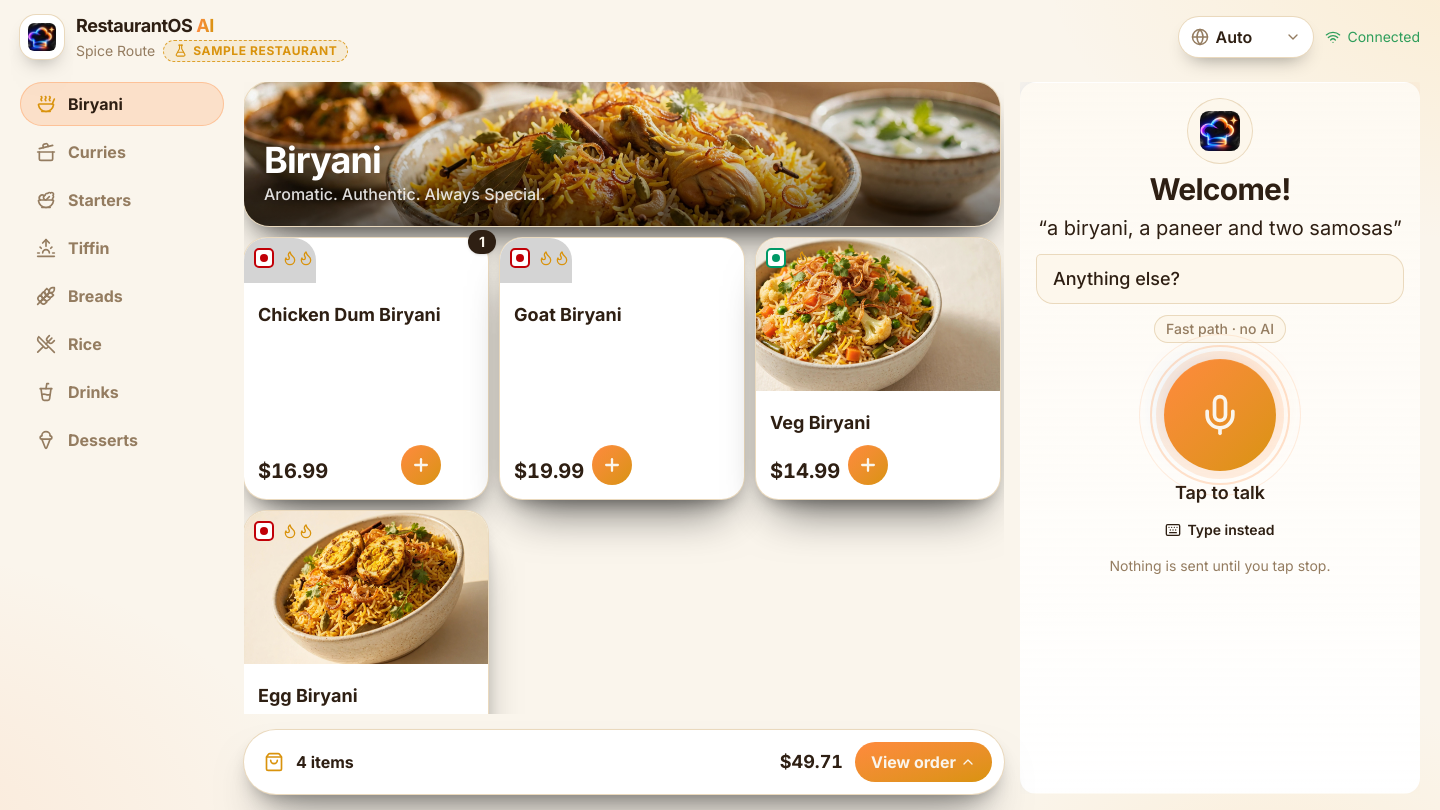
expanded_cart_shrinks_the_menu_viewport_instead_of_covering_it
The width and height of the screenshot is (1440, 810).
Click the button "4 items $49.71 View order": (332, 762) x1=244 y1=730 x2=1004 y2=794
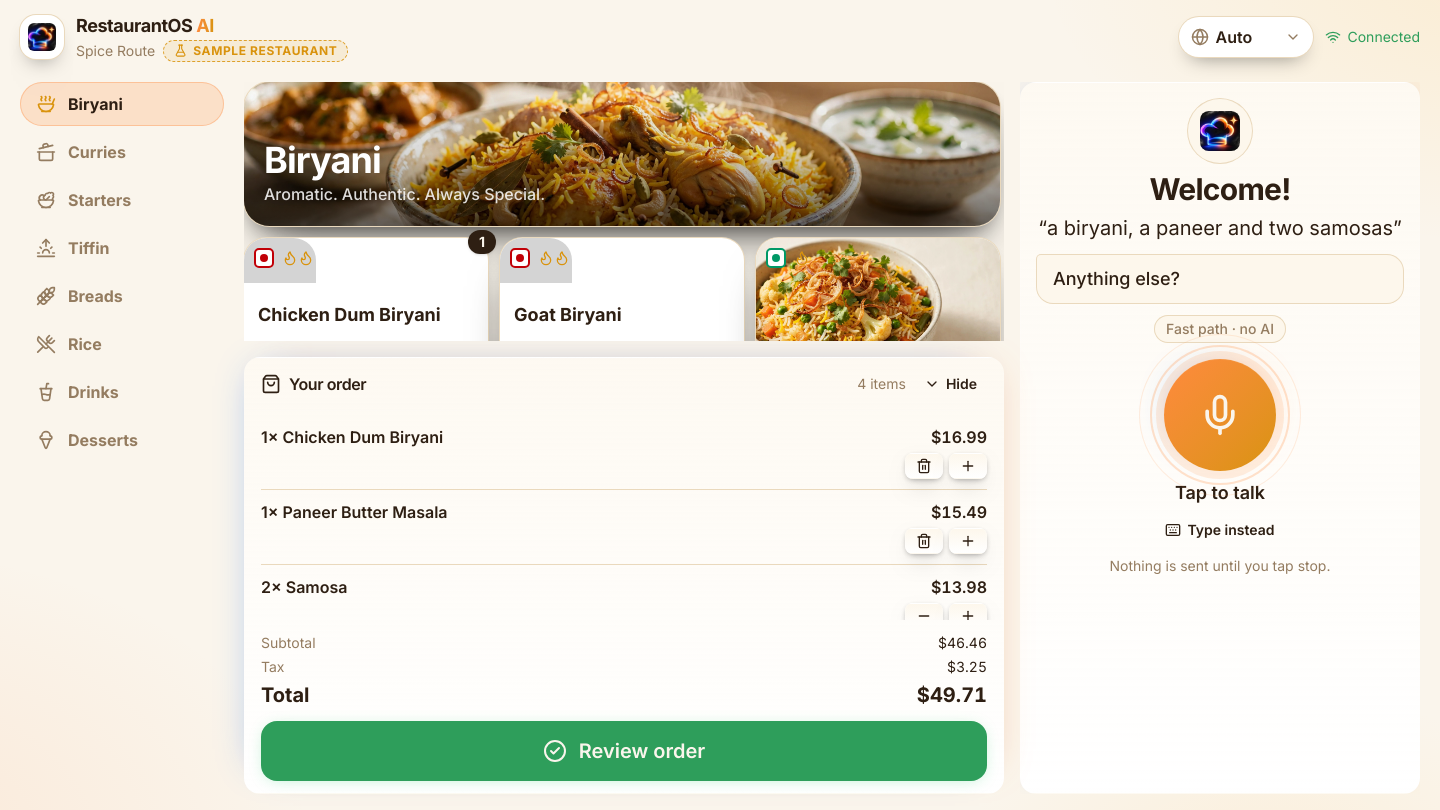
expect the number of list items is 3: met, box x1=261 y1=415 x2=987 y2=490; x1=261 y1=490 x2=987 y2=565; x1=261 y1=565 x2=987 y2=620
expect the button "Review order" is shown: met, box x1=261 y1=721 x2=987 y2=781
